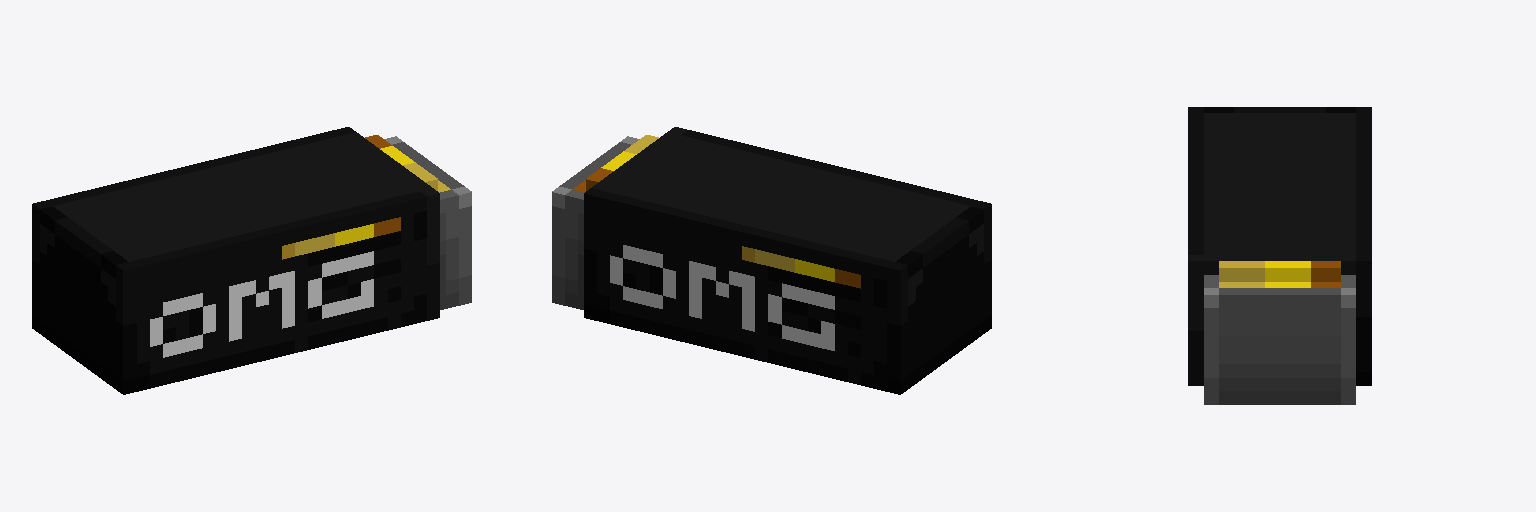
The picture shows the model from 3 angles: view 1: azimuth 30°, elevation 25°; view 2: azimuth 150°, elevation 25°; view 3: azimuth 270°, elevation 25°; orthographic projection.
Parts seen in each view (by area): view 1: object 1; view 2: object 1; view 3: object 1.
Part boxes in pixels (x1,y1,x2,y2): object 1: (32,127,471,394); object 1: (552,127,991,394); object 1: (1188,107,1371,404).
Bounding box in the file's own units: 2.7 × 0.9 × 1.2.
1 materials, 1 textured.